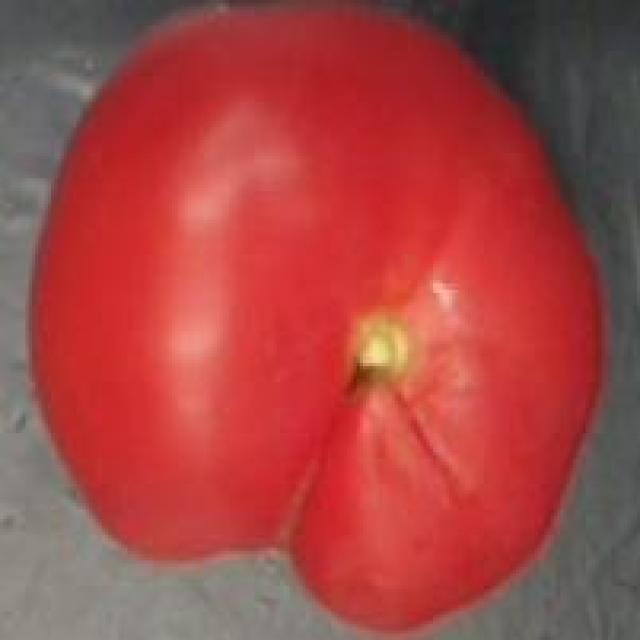ripe tomato: (22, 3, 618, 640)
